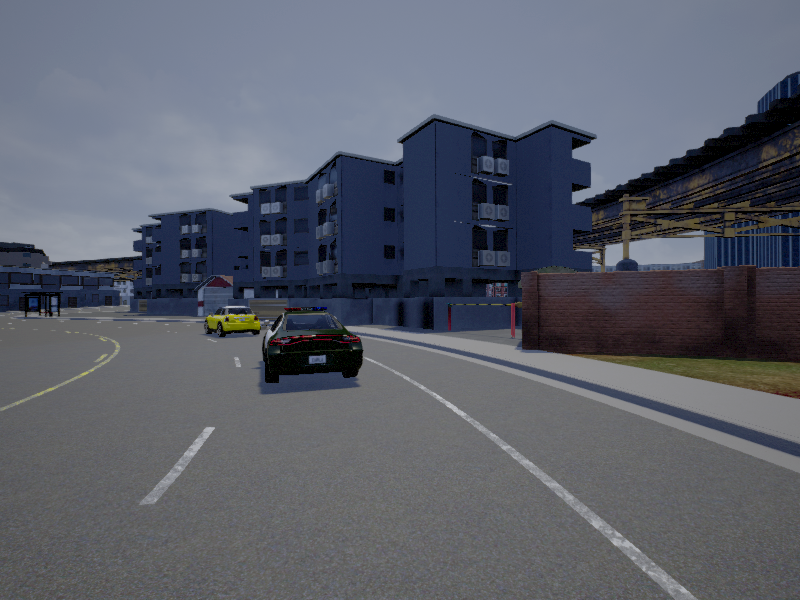Benign: (262, 308, 364, 385), (203, 304, 262, 338)
